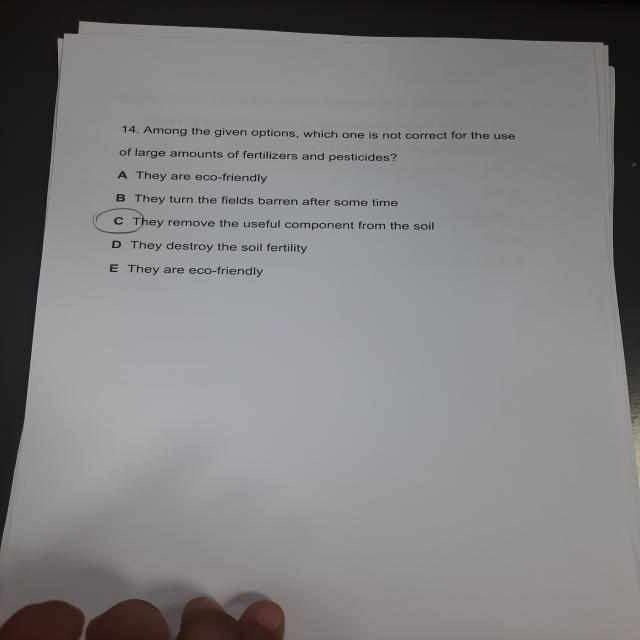C: (90, 207, 149, 236)
